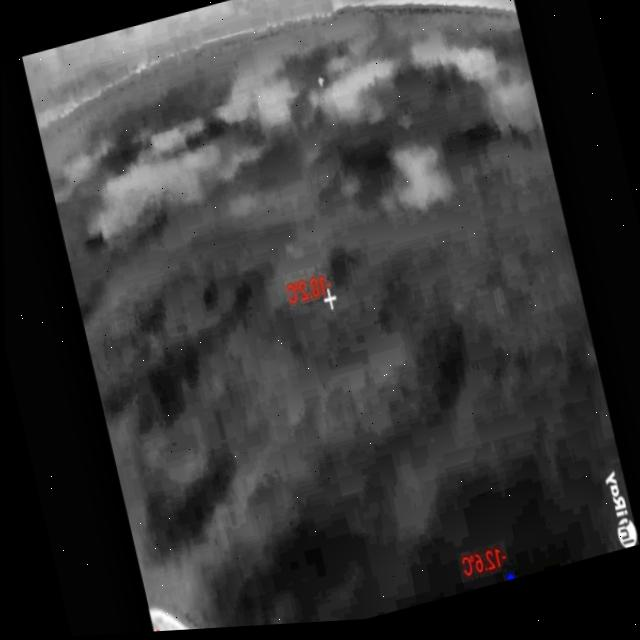drone: (315, 74, 324, 91)
